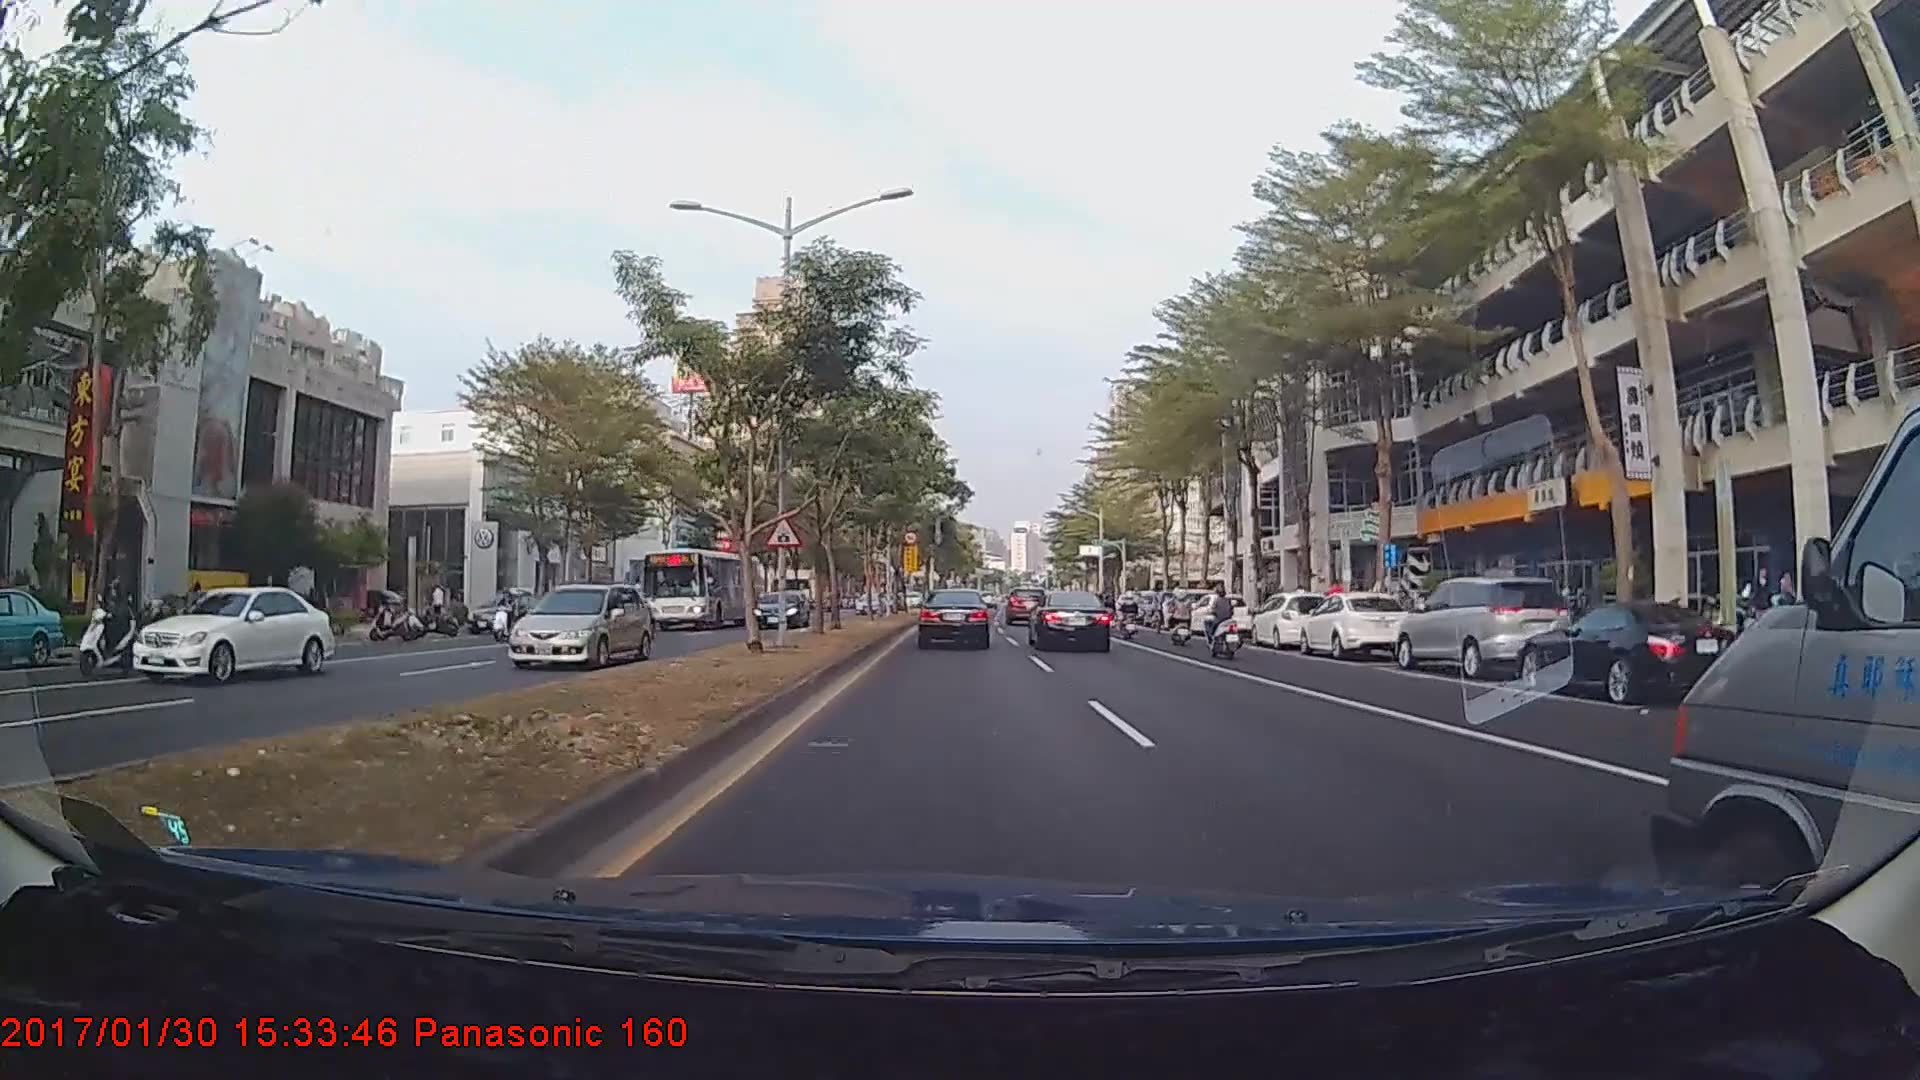rider: (70, 578, 149, 682), (1201, 582, 1250, 660), (1155, 590, 1204, 646), (489, 585, 524, 640), (1116, 586, 1143, 638)
vehicle: (1661, 520, 1913, 878), (1515, 602, 1747, 706), (128, 582, 337, 686), (1395, 570, 1575, 679), (504, 578, 651, 669), (639, 545, 760, 629), (1297, 589, 1410, 657), (0, 585, 66, 670), (1028, 589, 1114, 653), (1244, 588, 1333, 648), (919, 587, 991, 650), (1187, 591, 1251, 634), (749, 589, 810, 630), (1005, 585, 1046, 624)
